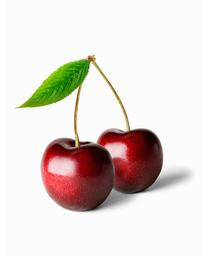cherry: (40, 136, 115, 213), (97, 127, 163, 195)
